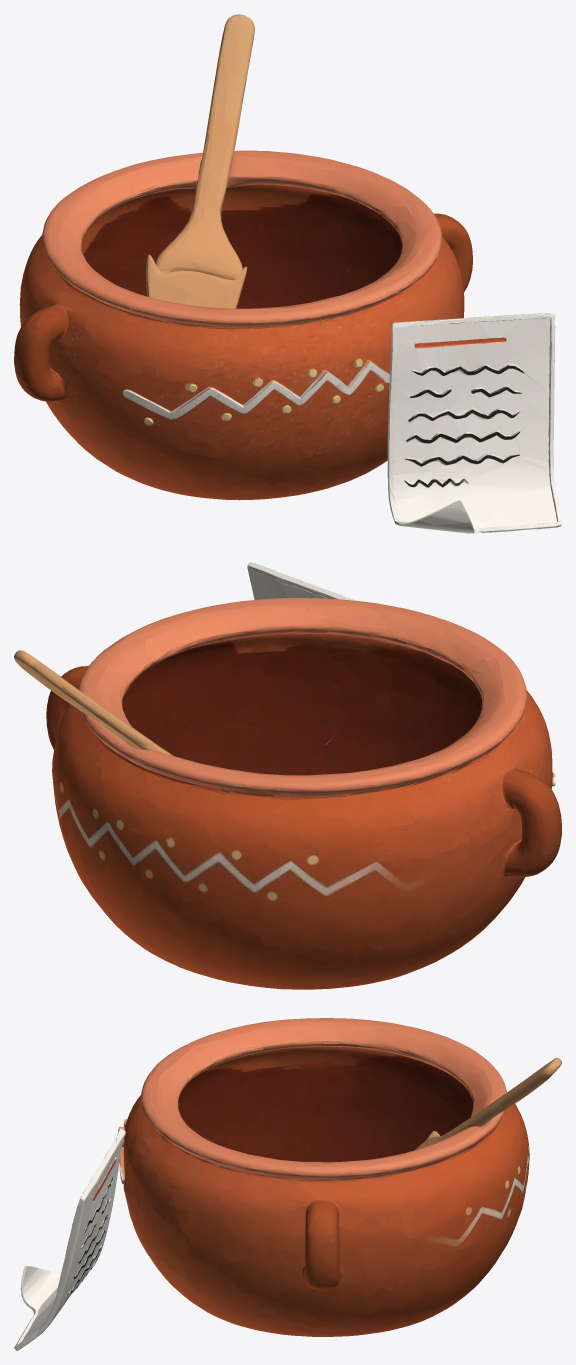
The model's file is olla.glb.
3 views of the same model, one above another, from view 1: azimuth 30°, elevation 25°; view 2: azimuth 150°, elevation 25°; view 3: azimuth 270°, elevation 25° (orthographic). The views are drawn at different scales.
Bounding box in the file's own units: 1.66 × 1.07 × 1.9.
1 material, 1 textured.
